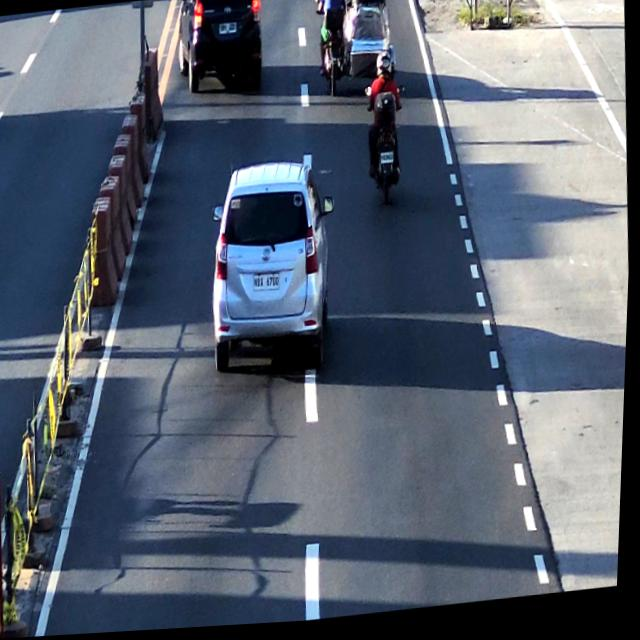Car: (205, 157, 342, 390), (172, 0, 266, 96)
License-Plate: (256, 274, 284, 297), (219, 25, 239, 43), (382, 157, 398, 170)
Motorcycle: (362, 52, 409, 216)
Tricycle: (312, 0, 399, 96)
